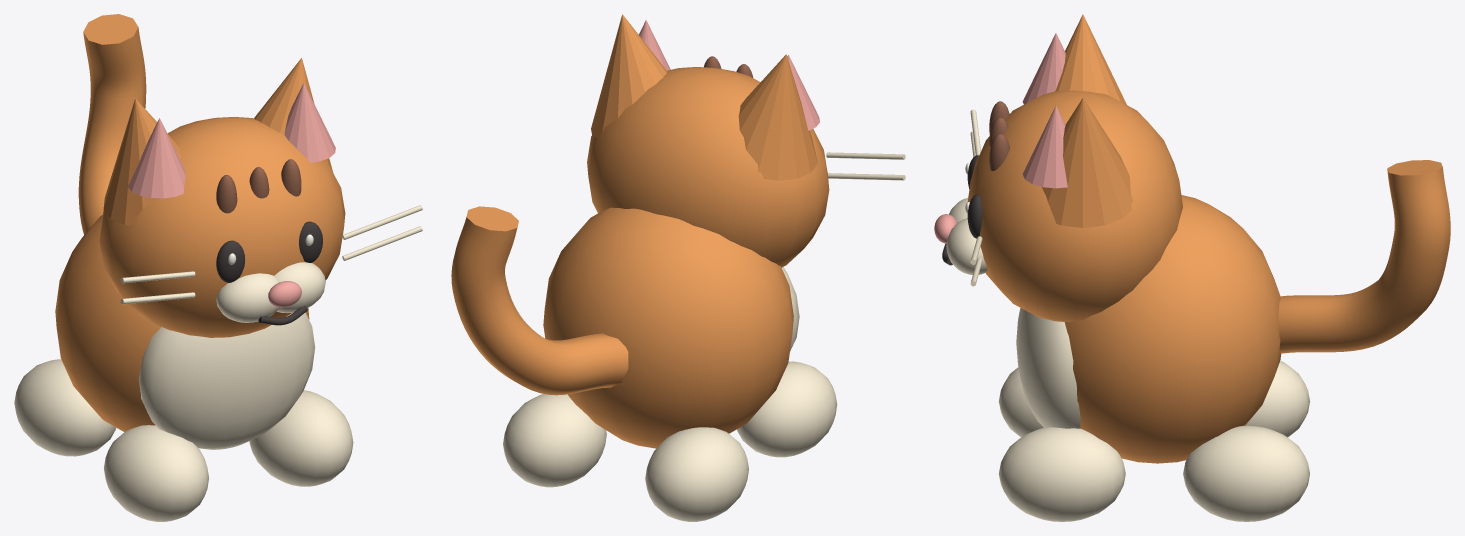
Rendered from cat.glb.
The picture shows the model from 3 angles, left to right: view 1: azimuth 30°, elevation 25°; view 2: azimuth 150°, elevation 25°; view 3: azimuth 270°, elevation 25°; orthographic projection. The views are drawn at different scales.
Visible parts, largest first — view 1: Head, Cream belly, Soft body, Curved tail, Paw, Paw.002, Paw.001, Pointed ear, Inner ear, Muzzle, Inner ear.001, Pointed ear.001 (+9 smaller); view 2: Soft body, Head, Curved tail, Paw.001, Paw.003, Pointed ear, Paw, Pointed ear.001, Inner ear; view 3: Soft body, Head, Curved tail, Paw.002, Paw.003, Pointed ear.001, Cream belly, Pointed ear, Paw.001, Inner ear.001, Paw, Inner ear (+1 smaller).
Boxes of the visible parts, bbox=[...] form: Head: bbox=[99, 117, 345, 337]; Cream belly: bbox=[138, 312, 315, 449]; Soft body: bbox=[55, 215, 309, 432]; Curved tail: bbox=[78, 14, 146, 234]; Paw: bbox=[104, 425, 208, 521]; Paw.002: bbox=[249, 390, 353, 486]; Paw.001: bbox=[14, 359, 115, 456]; Pointed ear: bbox=[103, 98, 180, 225]; Inner ear: bbox=[128, 118, 185, 198]; Muzzle: bbox=[216, 273, 279, 322]; Inner ear.001: bbox=[284, 83, 335, 162]; Pointed ear.001: bbox=[254, 58, 333, 172]; Soft body: bbox=[543, 207, 793, 448]; Head: bbox=[587, 67, 829, 267]; Curved tail: bbox=[451, 206, 628, 395]; Paw.001: bbox=[645, 427, 748, 521]; Paw.003: bbox=[503, 394, 606, 487]; Pointed ear: bbox=[738, 54, 817, 180]; Paw: bbox=[737, 361, 837, 457]; Pointed ear.001: bbox=[591, 14, 667, 137]; Inner ear: bbox=[787, 55, 819, 130]; Soft body: bbox=[1064, 195, 1281, 463]; Head: bbox=[967, 90, 1182, 321]; Curved tail: bbox=[1278, 160, 1450, 353]; Paw.002: bbox=[999, 427, 1125, 521]; Paw.003: bbox=[1183, 425, 1309, 521]; Pointed ear.001: bbox=[1042, 98, 1133, 228]; Cream belly: bbox=[1016, 308, 1080, 428]; Pointed ear: bbox=[1055, 14, 1126, 104]; Paw.001: bbox=[1245, 361, 1310, 437]; Inner ear.001: bbox=[1022, 105, 1067, 188]; Paw: bbox=[998, 367, 1043, 437]; Inner ear: bbox=[1022, 33, 1065, 104].
Size of the model in its own units: 1.12 by 1.48 by 1.63.
